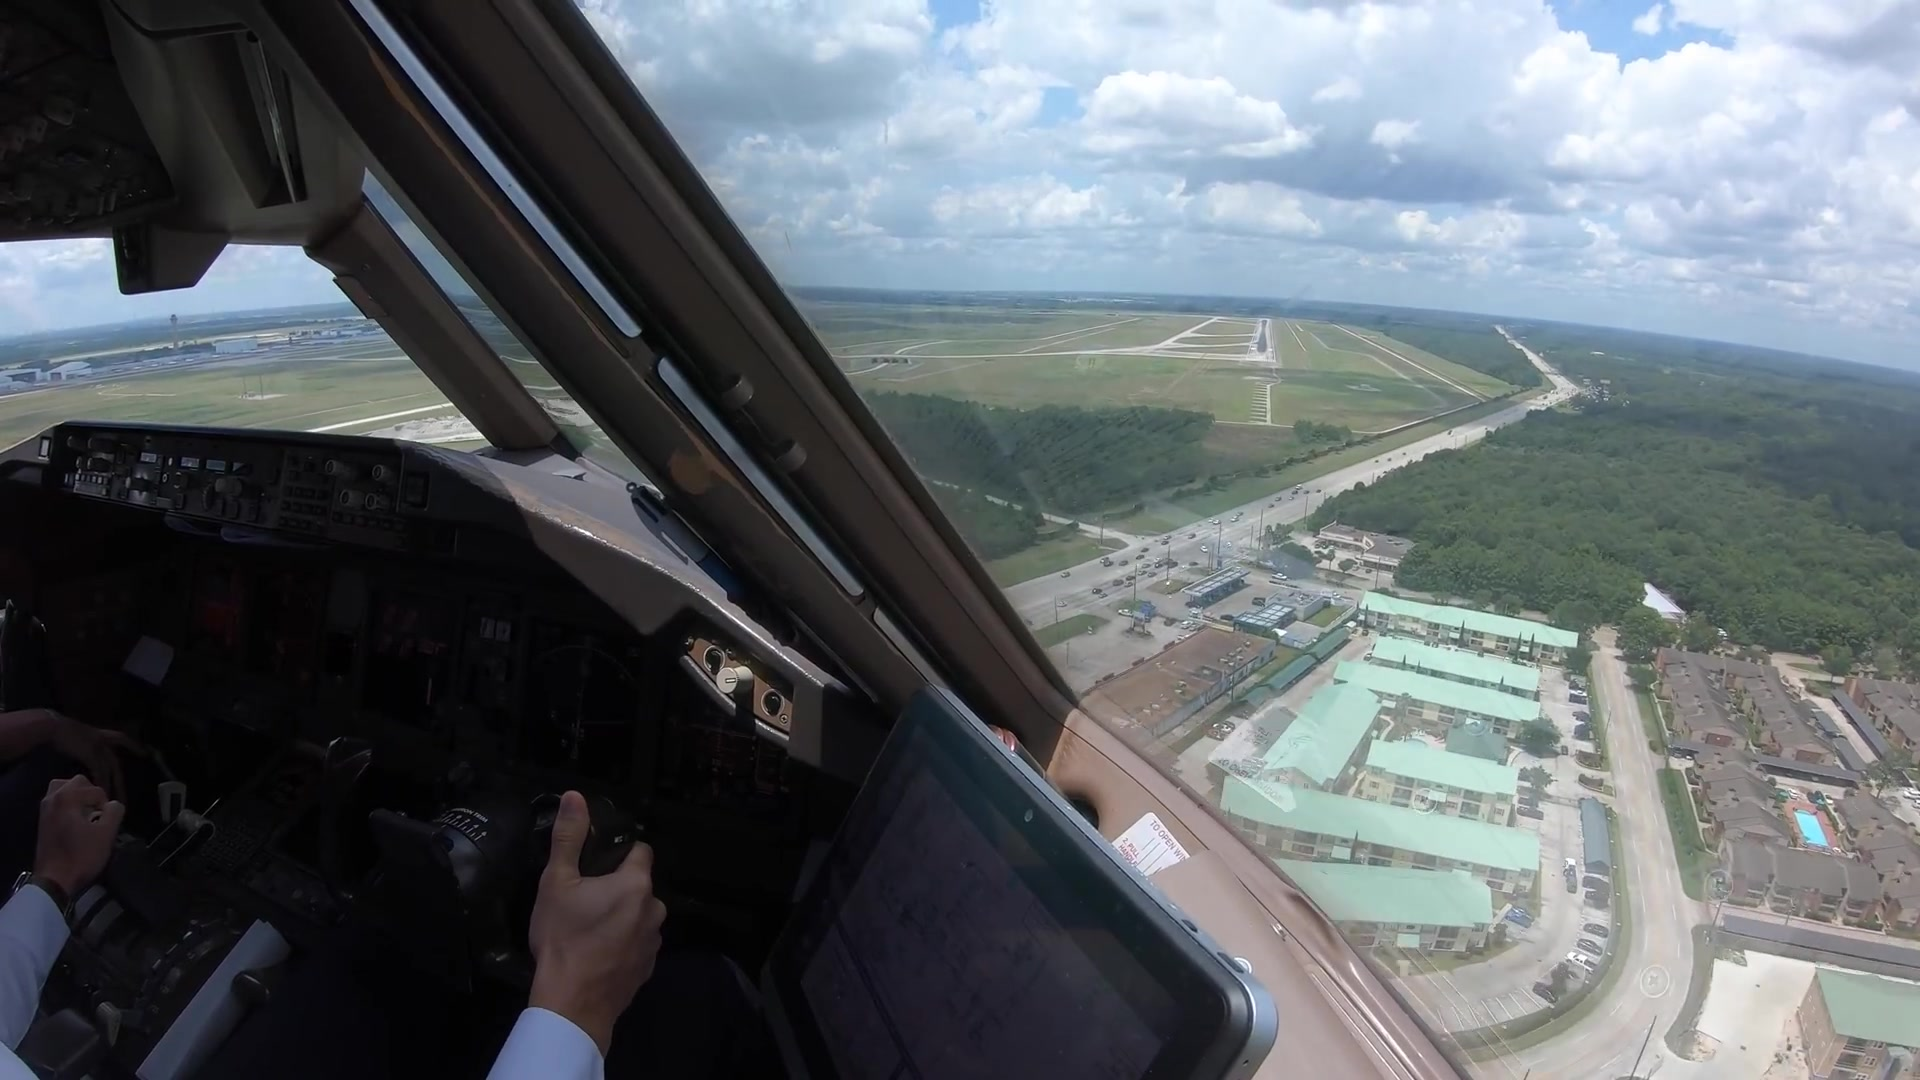runway: (1244, 319, 1276, 363)
